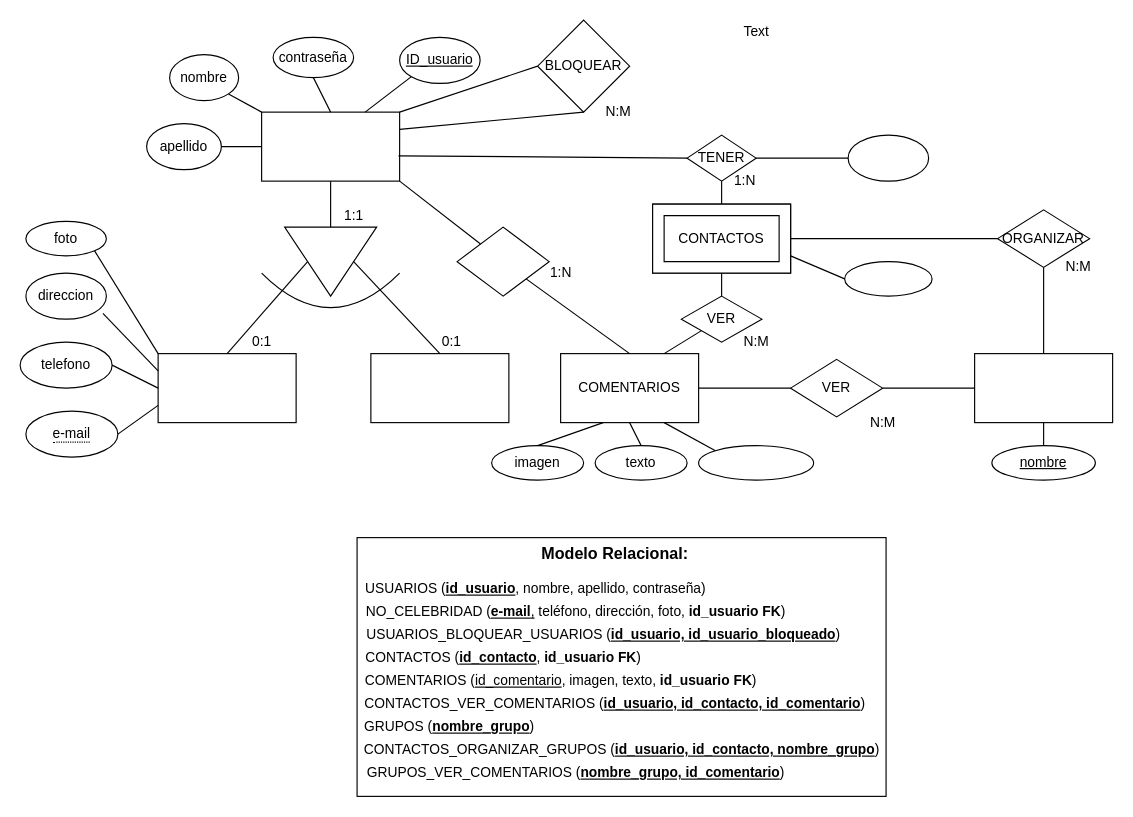
The diagram is 1133 pixels wide and 817 high, and some of its shapes have lost their labels. Each missing label, with the centre of its shape:
CELEBRIDAD: point (439, 387)
comentario: point (888, 157)
GRUPOS: point (1043, 387)
ID_comentario: point (755, 462)
ID_contacto: point (888, 278)
NO_CELEBRIDAD: point (226, 387)
PUBLICAR: point (502, 261)
USUARIOS: point (330, 146)
